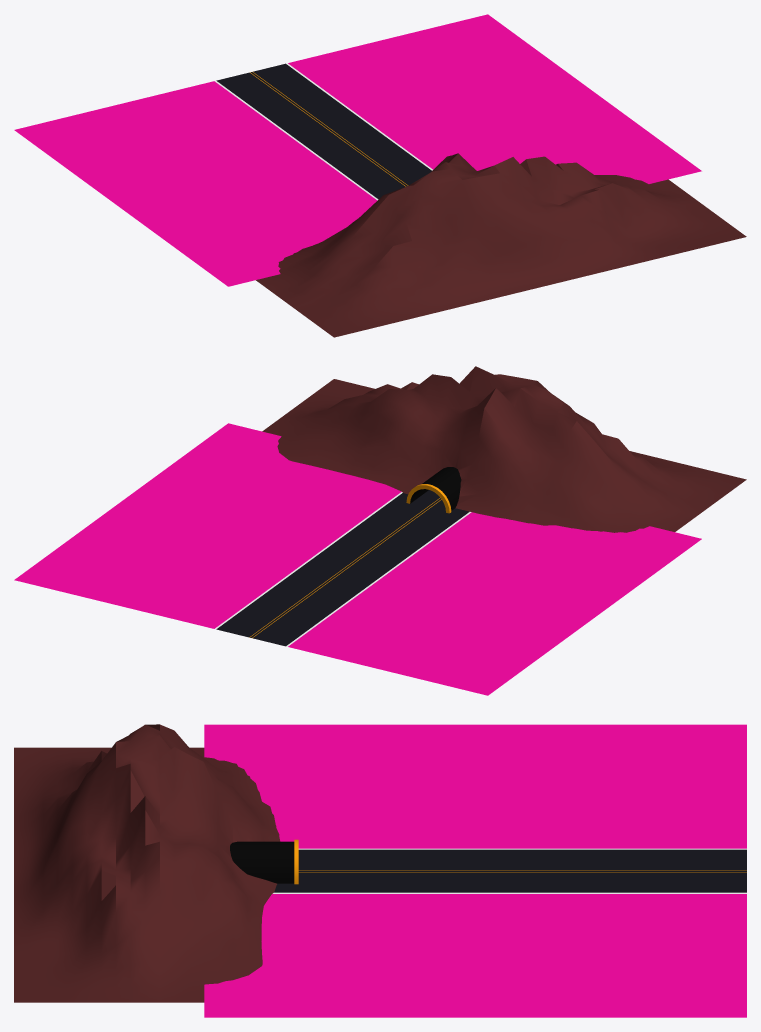
The model's file is Finish Tunnel.fbx.
3 renders of one model, top to bottom at view 1: azimuth 30°, elevation 25°; view 2: azimuth 150°, elevation 25°; view 3: azimuth 270°, elevation 25°, orthographic. The views are drawn at different scales.
Visible parts, largest first — view 1: Plane_2, Boole_1; view 2: Plane_2, Boole_1, Tube; view 3: Plane_2, Boole_1, Tube.
Part boxes in pixels (x1,y1,x2,y2): Plane_2: (14, 14, 701, 286); Boole_1: (256, 153, 746, 337); Plane_2: (14, 423, 701, 695); Boole_1: (262, 366, 746, 532); Tube: (406, 467, 461, 513); Plane_2: (204, 724, 746, 1017); Boole_1: (14, 724, 280, 1002); Tube: (230, 839, 298, 884).
Bounding box in the file's own units: 2724 × 604 × 2882.
